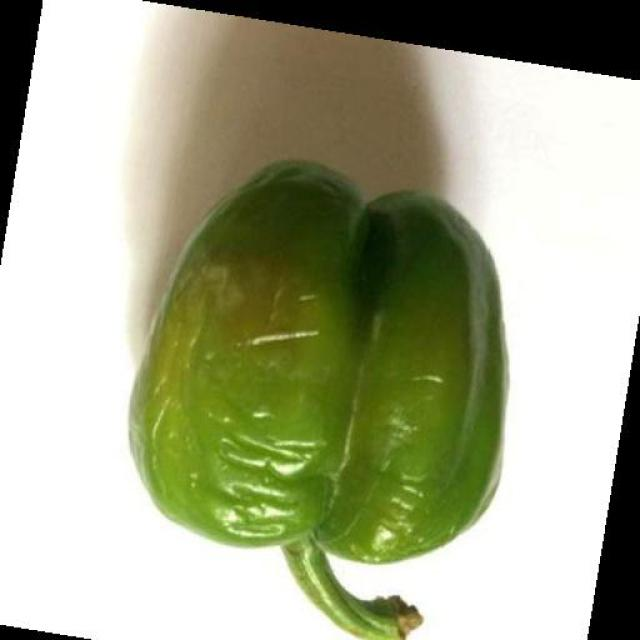Stale_Capsicum: (109, 154, 342, 525)
